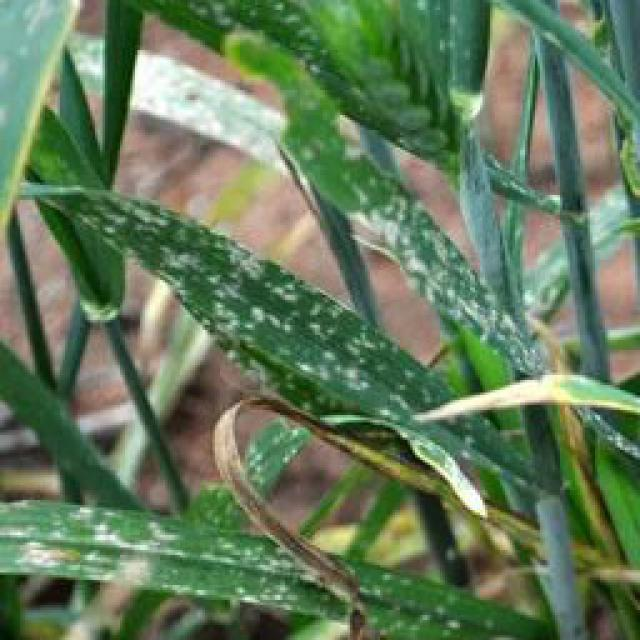Powdery_Mildew: (59, 178, 583, 473), (0, 499, 469, 639)
